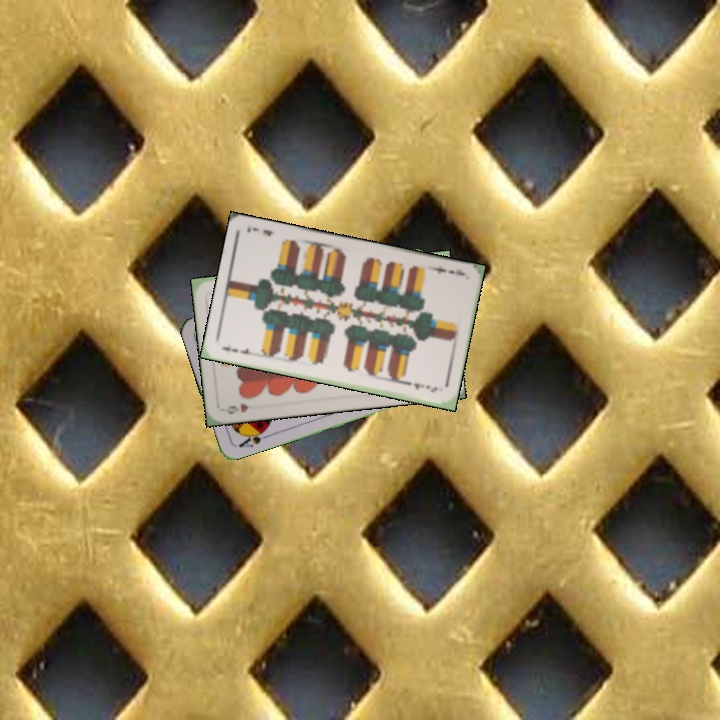E7: (217, 342, 258, 358), (426, 262, 467, 278)
H9: (222, 399, 251, 417)
SA: (232, 425, 272, 450)
